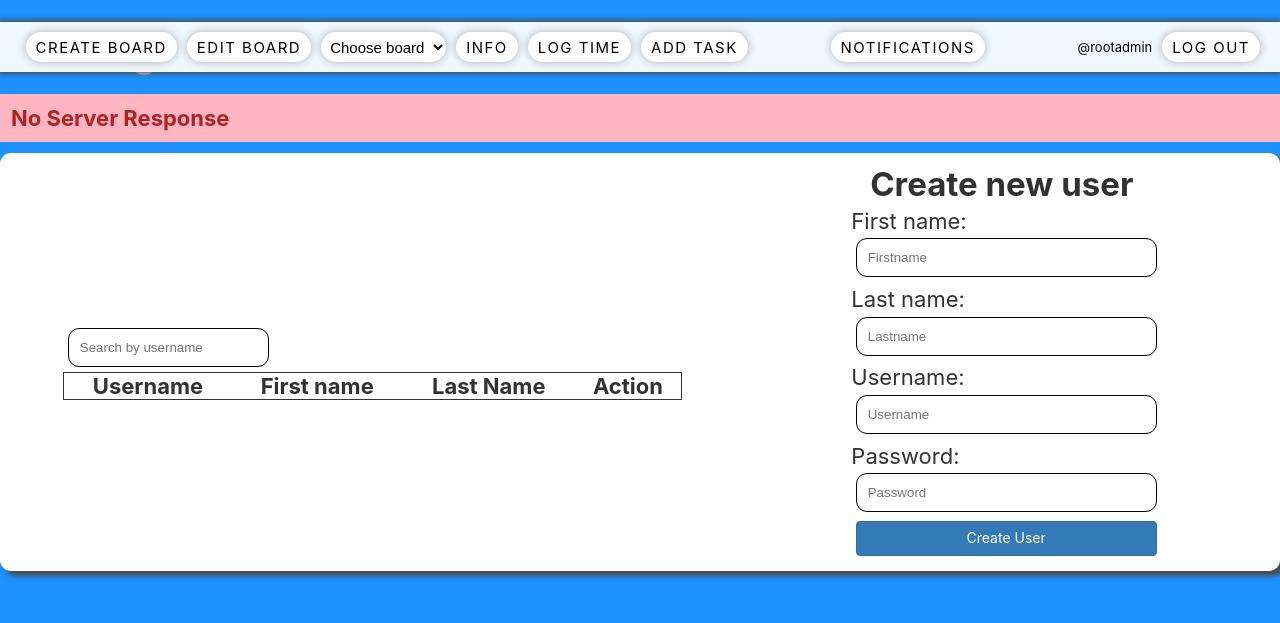
Test: AdminPage › Try to create user with firstName special symbols
This screenshot has width=1280, height=623.
In the field with test id "usernameInput": (1006, 414) [856,395,1156,434], type "anton"
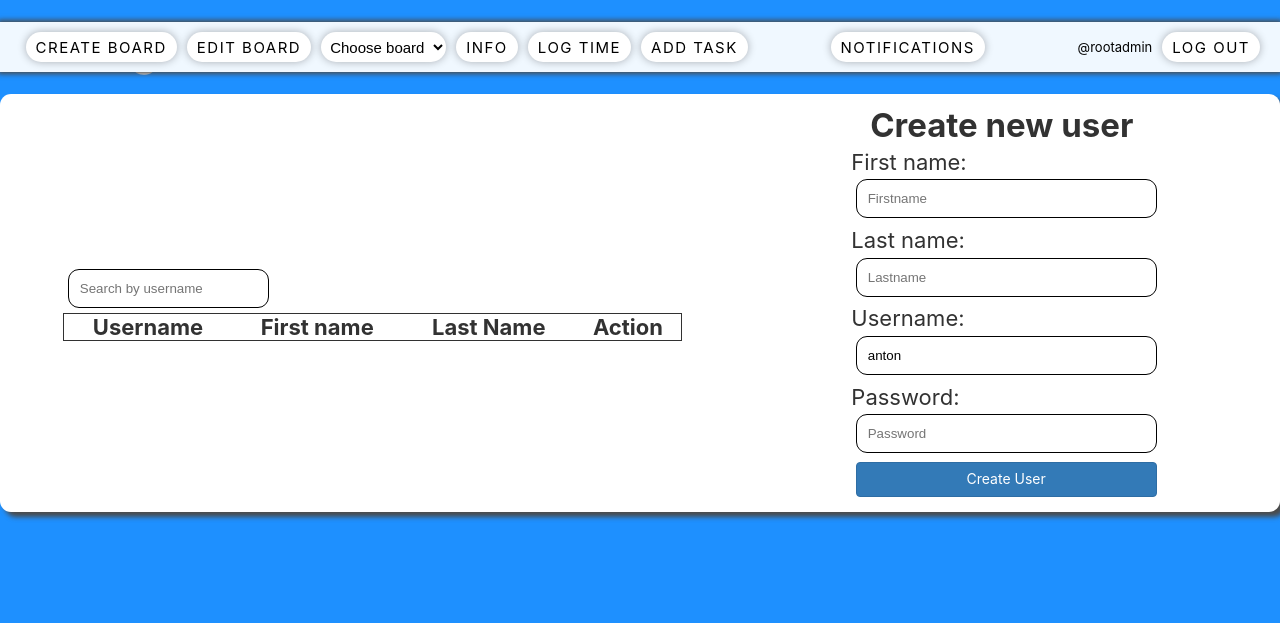
In the field with test id "FirstInput": (1006, 199) [856,179,1156,218], type "Iva1@,n"
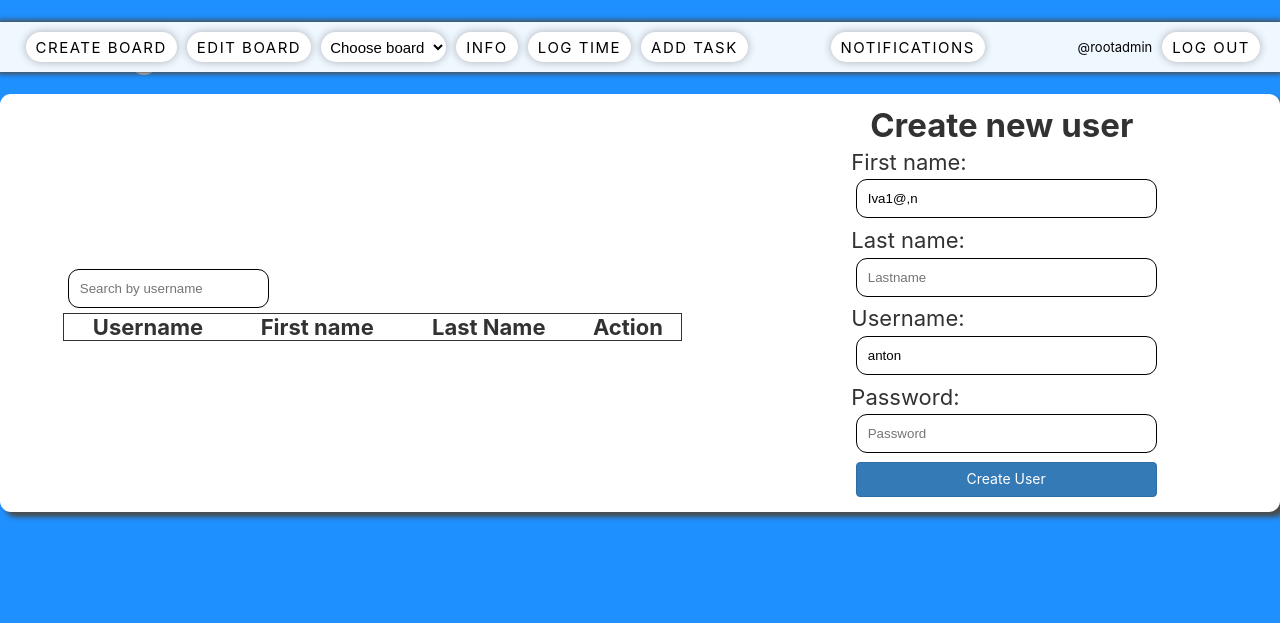
In the field with test id "LastInput": (1006, 277) [856,258,1156,296], type "Purin"
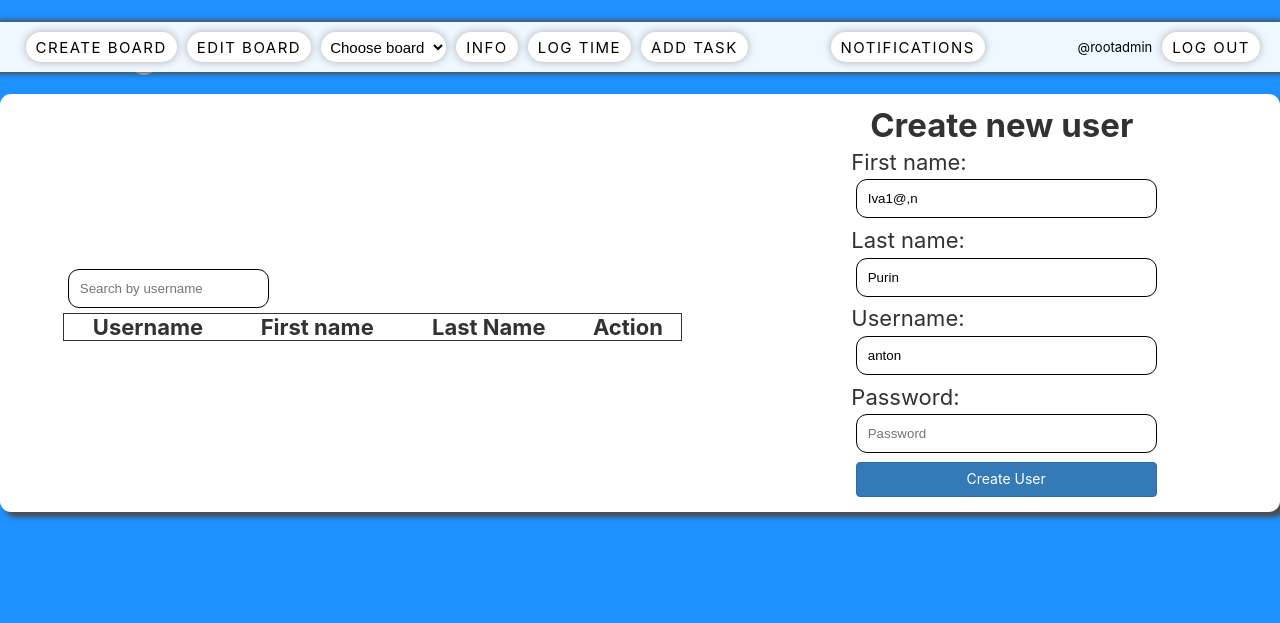
In the field with test id "PasswordInput": (1006, 433) [856,414,1156,453], type "12345678"
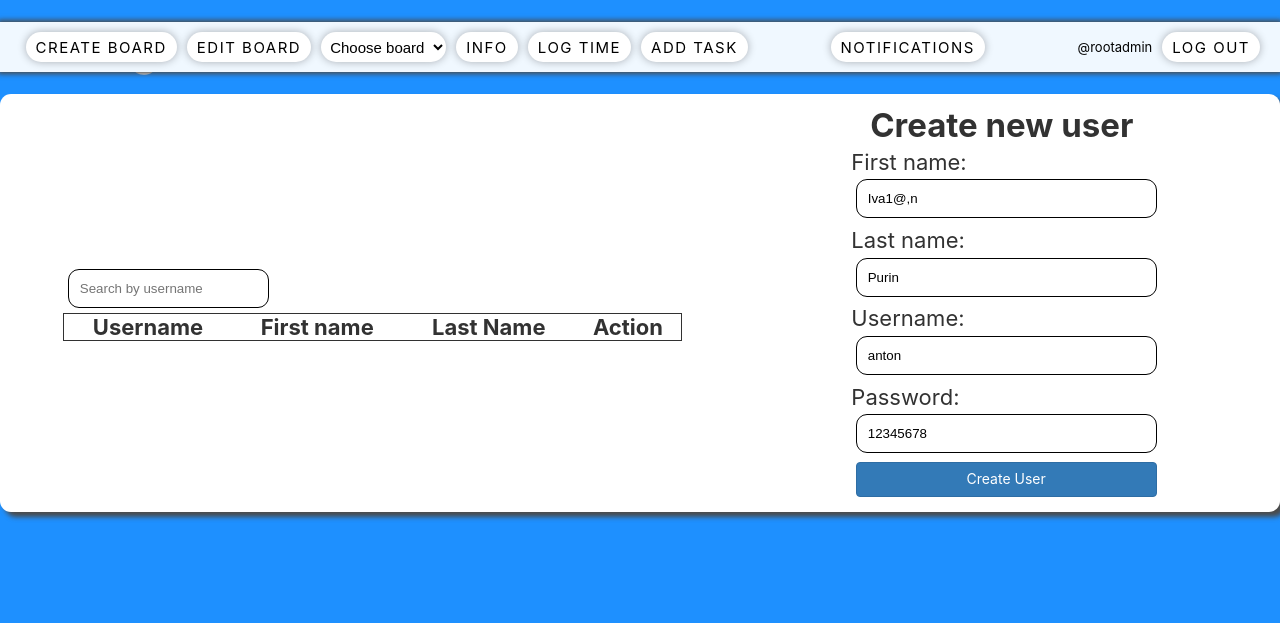
Click the button "Create User": (1006, 479) [856,462,1156,497]
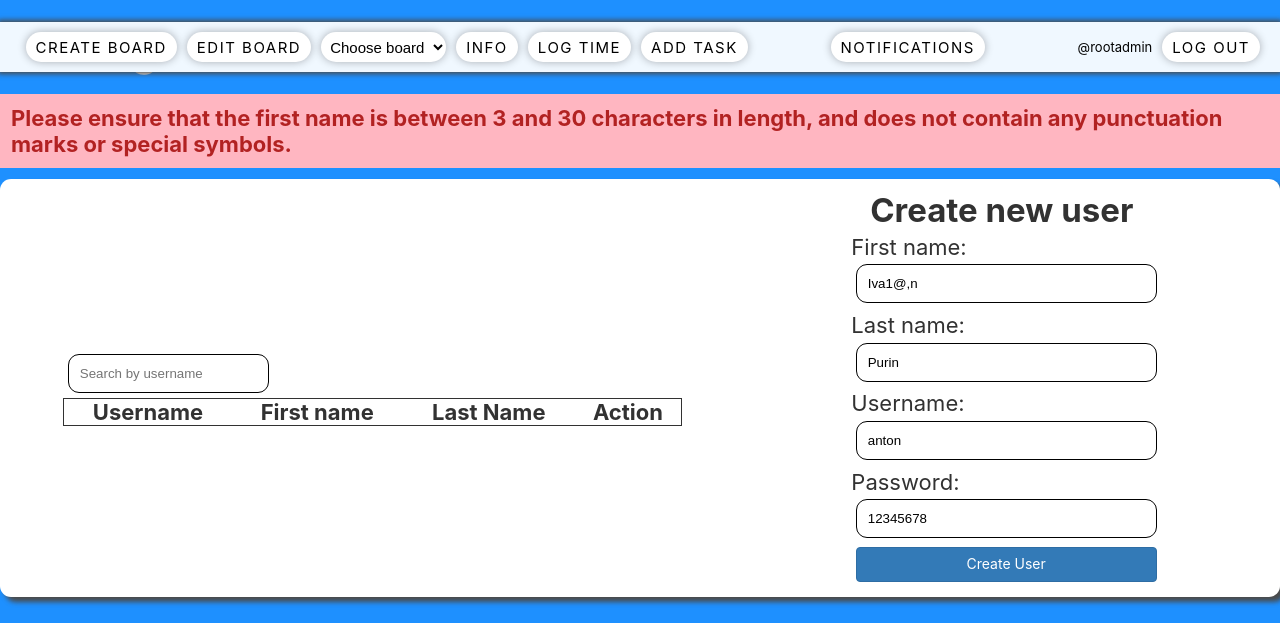
Expected: the text "Please ensure that the first name is between 3 and 30 characters in length, and does not contain any punctuation marks o" is shown, [11,105,1222,157]
